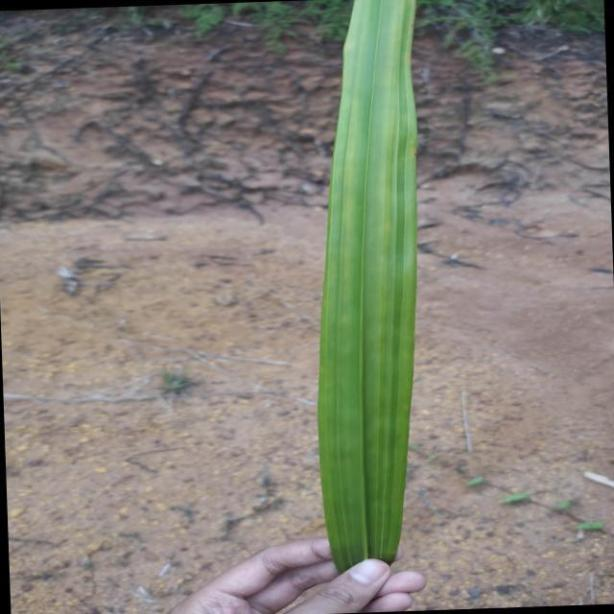nitrogen: (317, 0, 418, 557)
